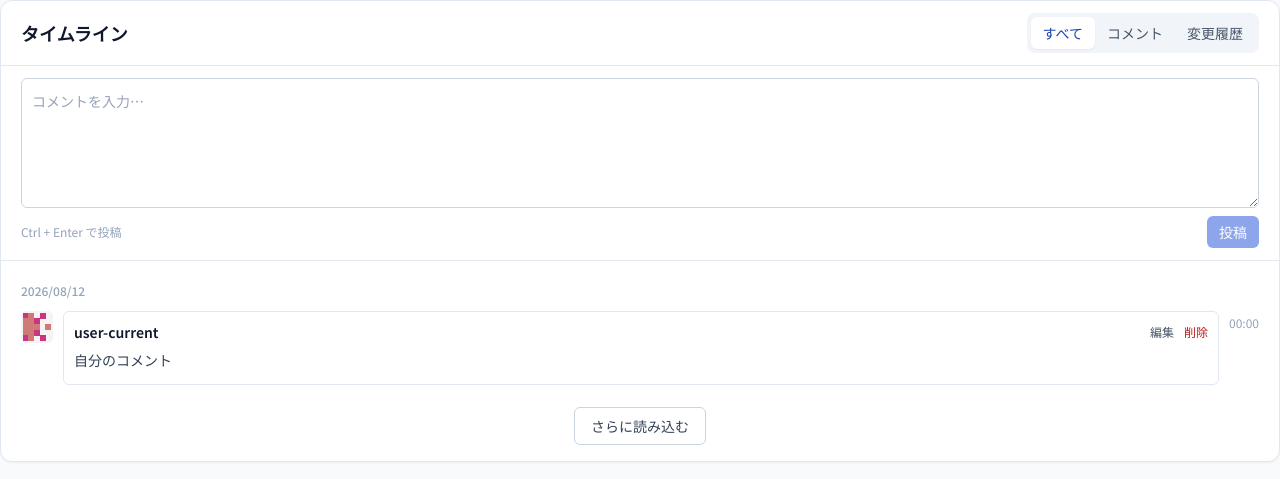
Test case: TaskTimeline › 次ページを同じフィルターとカーソルで取得して追記する
Click the button with aria-label "さらに読み込む": (640, 426) [574,407,706,445]
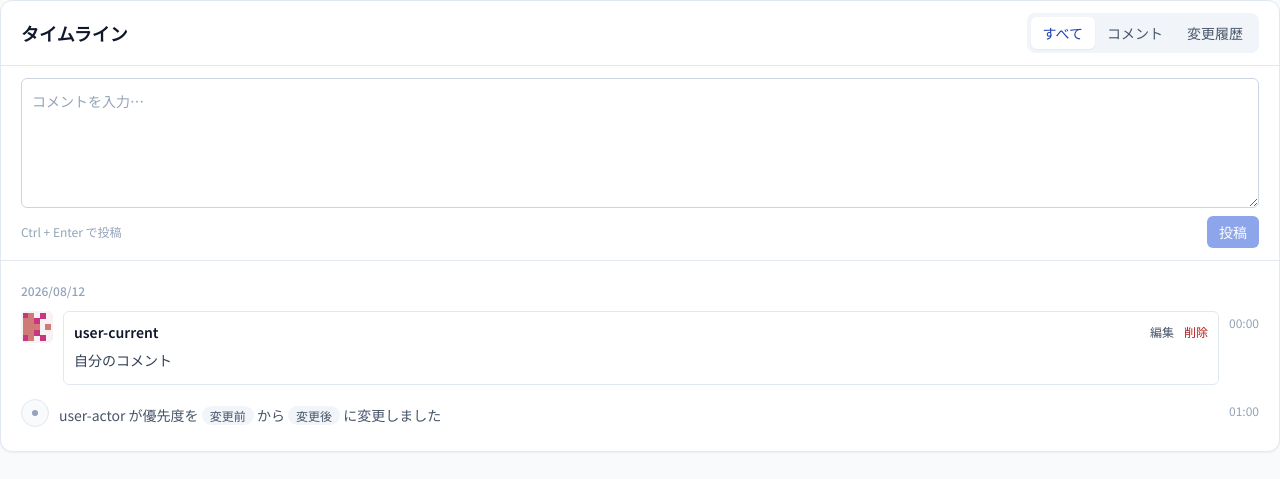
Expected: the text "自分のコメント" is shown, [74,350,172,370]
Expected: the text "優先度を 変更前 から 変更後 に変更しました" is shown, [59,405,441,425]
